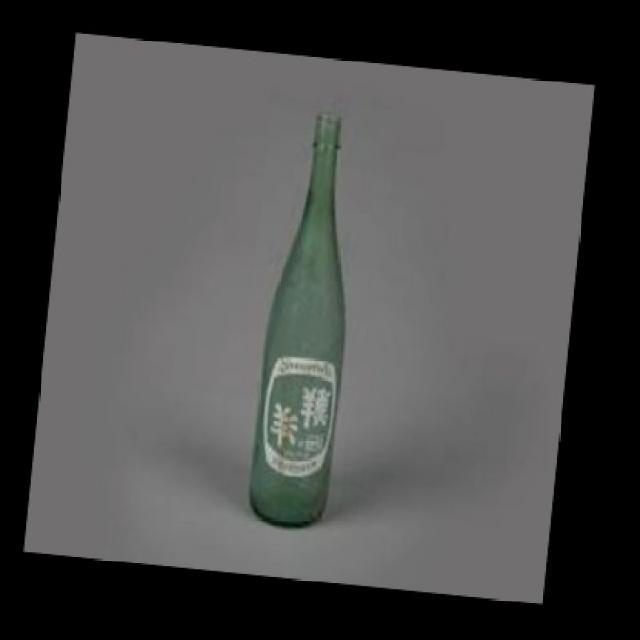Glass: (249, 111, 348, 529)
